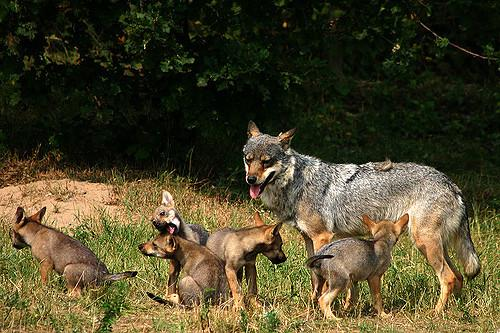Wolf: (247, 121, 480, 322), (8, 204, 136, 303), (306, 215, 410, 322), (201, 210, 291, 308), (137, 227, 231, 311), (150, 190, 209, 260)
